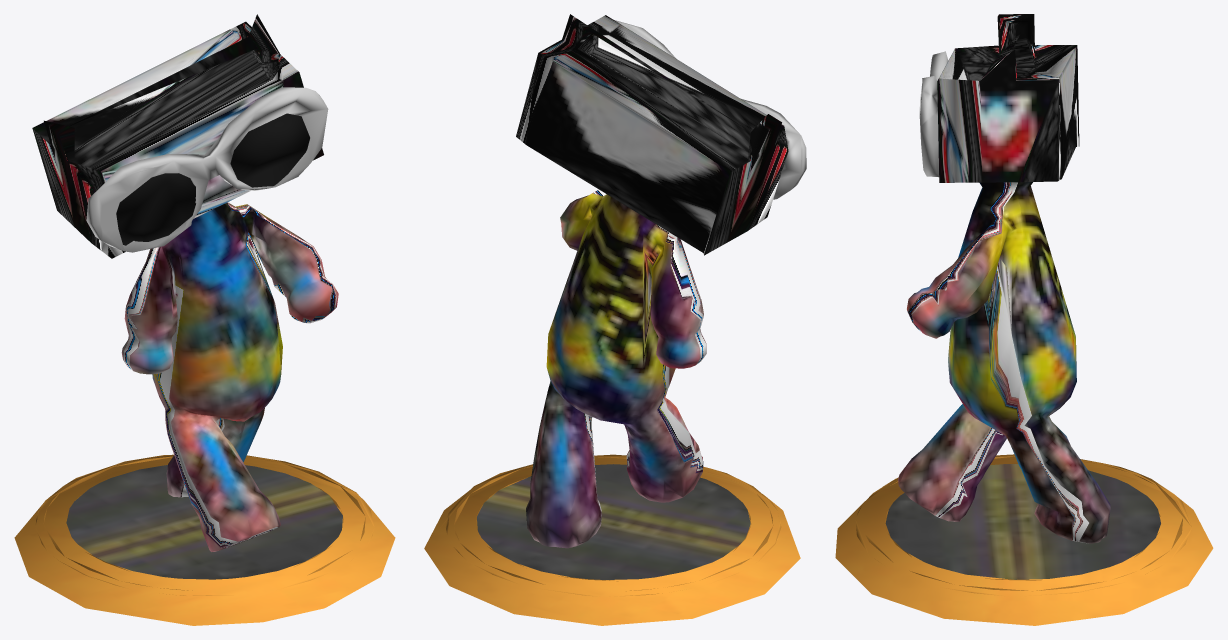
3 renders of one model, left to right at view 1: azimuth 30°, elevation 25°; view 2: azimuth 150°, elevation 25°; view 3: azimuth 270°, elevation 25°, orthographic.
Bounding box in the file's own units: 1.44 × 2.18 × 1.44.
Materials: 7 (4 with a texture image).
